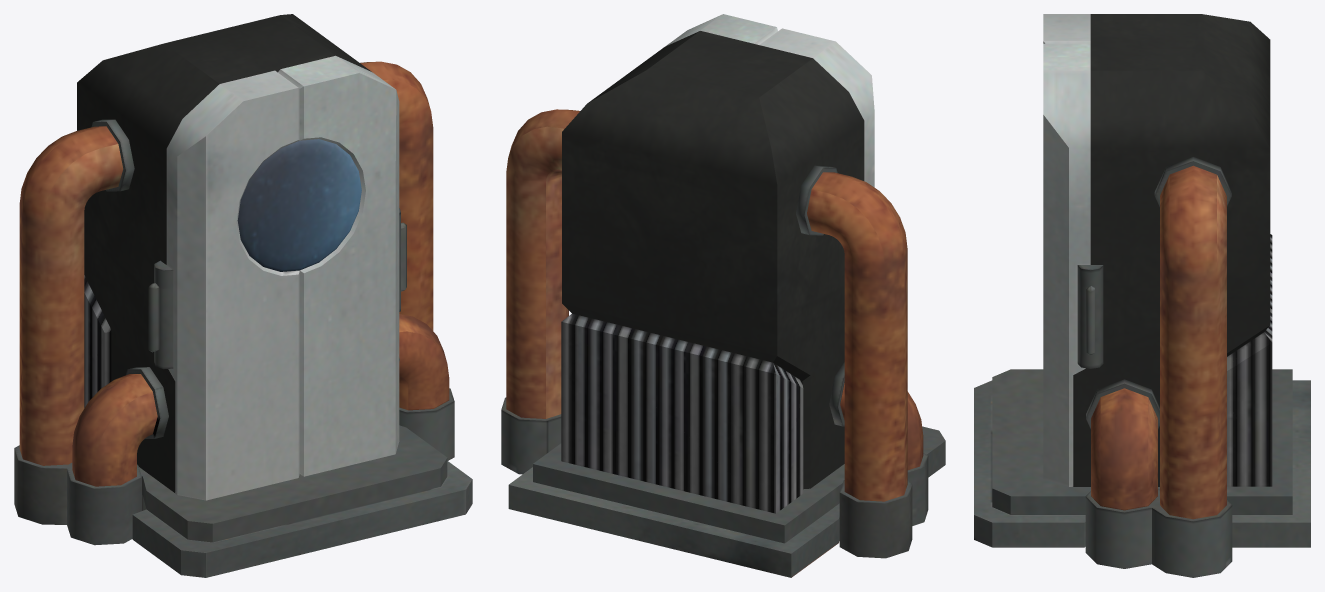
The model's file is Cryopod.fbx.
The picture shows the model from 3 angles, left to right: view 1: azimuth 30°, elevation 25°; view 2: azimuth 150°, elevation 25°; view 3: azimuth 270°, elevation 25°; orthographic projection. The views are drawn at different scales.
Parts seen in each view (by area): view 1: Cryopod, Door_Window, Door, Hinge_Right, Hinge_Left; view 2: Cryopod, Door, Door_Window; view 3: Cryopod, Door_Window, Hinge_Left, Door.
Part boxes in pixels (box(x1,y1,x2,y2)): Cryopod: box(14, 14, 472, 577); Door_Window: box(237, 55, 399, 476); Door: box(166, 70, 299, 500); Hinge_Right: box(148, 260, 173, 369); Hinge_Left: box(399, 208, 406, 311); Cryopod: box(501, 31, 945, 577); Door: box(759, 28, 874, 187); Door_Window: box(665, 14, 777, 46); Cryopod: box(974, 14, 1310, 577); Door_Window: box(1043, 43, 1090, 486); Hinge_Left: box(1077, 265, 1103, 368); Door: box(1043, 14, 1090, 43).
Bounding box in the file's own units: 176 × 176 × 123.
